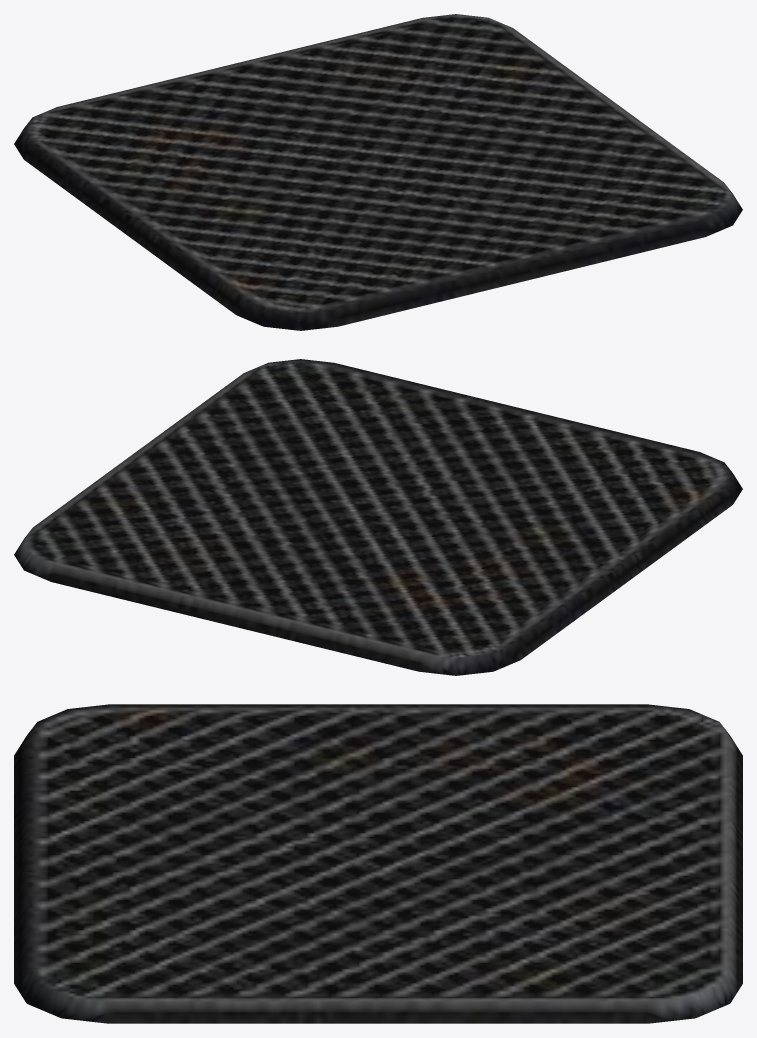
File: Broken_Grid.fbx
The picture shows the model from 3 angles, top to bottom: view 1: azimuth 30°, elevation 25°; view 2: azimuth 150°, elevation 25°; view 3: azimuth 270°, elevation 25°; orthographic projection. The views are drawn at different scales.
Visible parts, largest first — view 1: Broken_Grid; view 2: Broken_Grid; view 3: Broken_Grid.
Boxes of the visible parts, x1,y1,x2,y2 form: Broken_Grid: [14, 14, 742, 330]; Broken_Grid: [14, 359, 742, 675]; Broken_Grid: [14, 704, 742, 1023].
Bounding box in the file's own units: 131 × 3.25 × 131.
